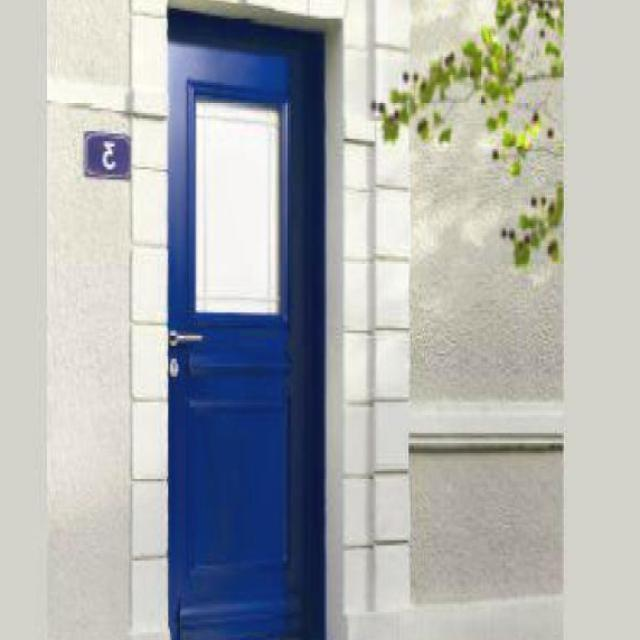door: (165, 9, 326, 638)
